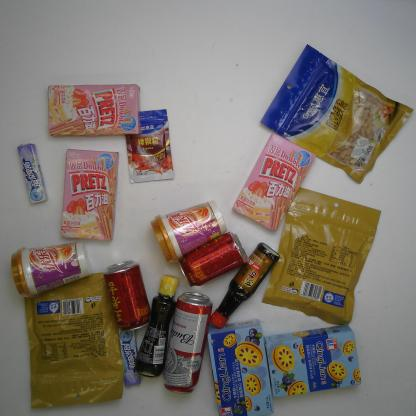Alcohol: (160, 289, 215, 397)
Candy: (13, 141, 50, 207), (114, 322, 144, 391)
Dessert: (230, 127, 323, 233), (256, 323, 366, 399), (202, 317, 277, 416), (40, 80, 144, 141), (58, 146, 122, 244)
Dried Fruit: (257, 40, 415, 186), (259, 183, 384, 329), (22, 270, 125, 410)
Drink: (177, 230, 250, 289), (101, 258, 153, 333)
Instant Drink: (147, 198, 230, 267), (9, 239, 93, 300)
Seasoner: (207, 240, 281, 330), (131, 272, 185, 379), (119, 104, 178, 185)
